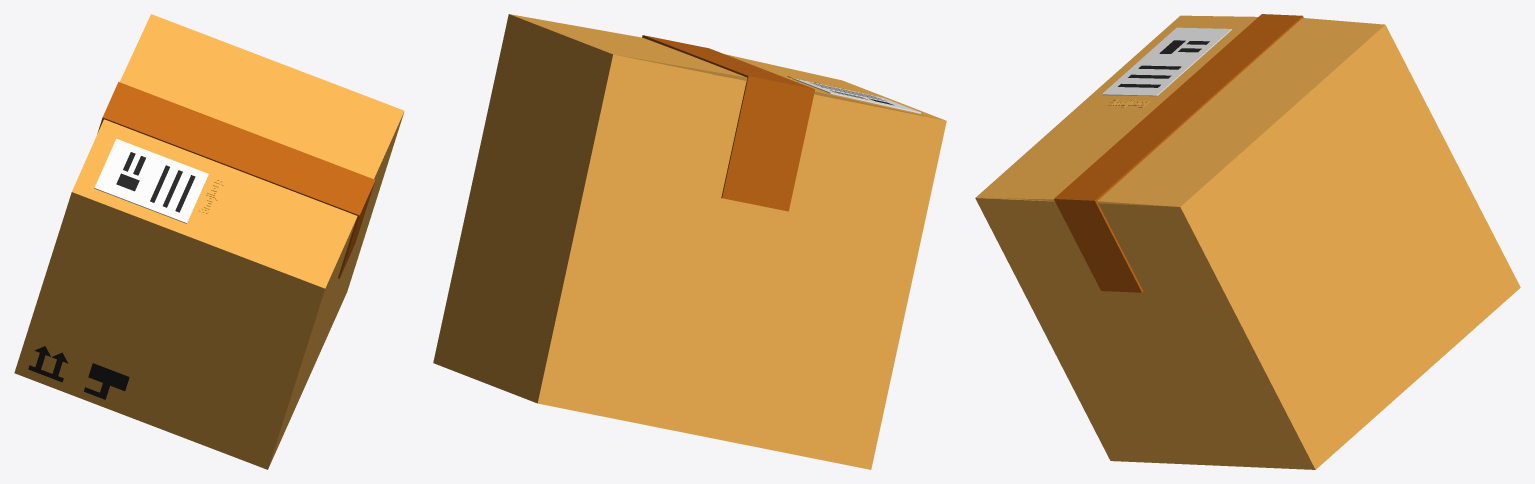
File: package.fbx
3 renders of one model, left to right at view 1: azimuth 30°, elevation 25°; view 2: azimuth 150°, elevation 25°; view 3: azimuth 270°, elevation 25°, orthographic. The views are drawn at different scales.
Visible parts, largest first — view 1: Cube.969; view 2: Cube.969; view 3: Cube.969.
Boxes of the visible parts, bbox=[...] form: Cube.969: bbox=[14, 14, 404, 469]; Cube.969: bbox=[433, 14, 946, 469]; Cube.969: bbox=[975, 14, 1520, 469].
Bounding box in the file's own units: 204 × 217 × 245.
1 material, 1 textured.
